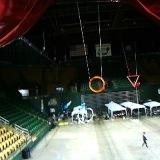Orange_Circle_GShape: (89, 75, 106, 92)
Orange_Triangle_Gshape: (126, 75, 140, 88)
